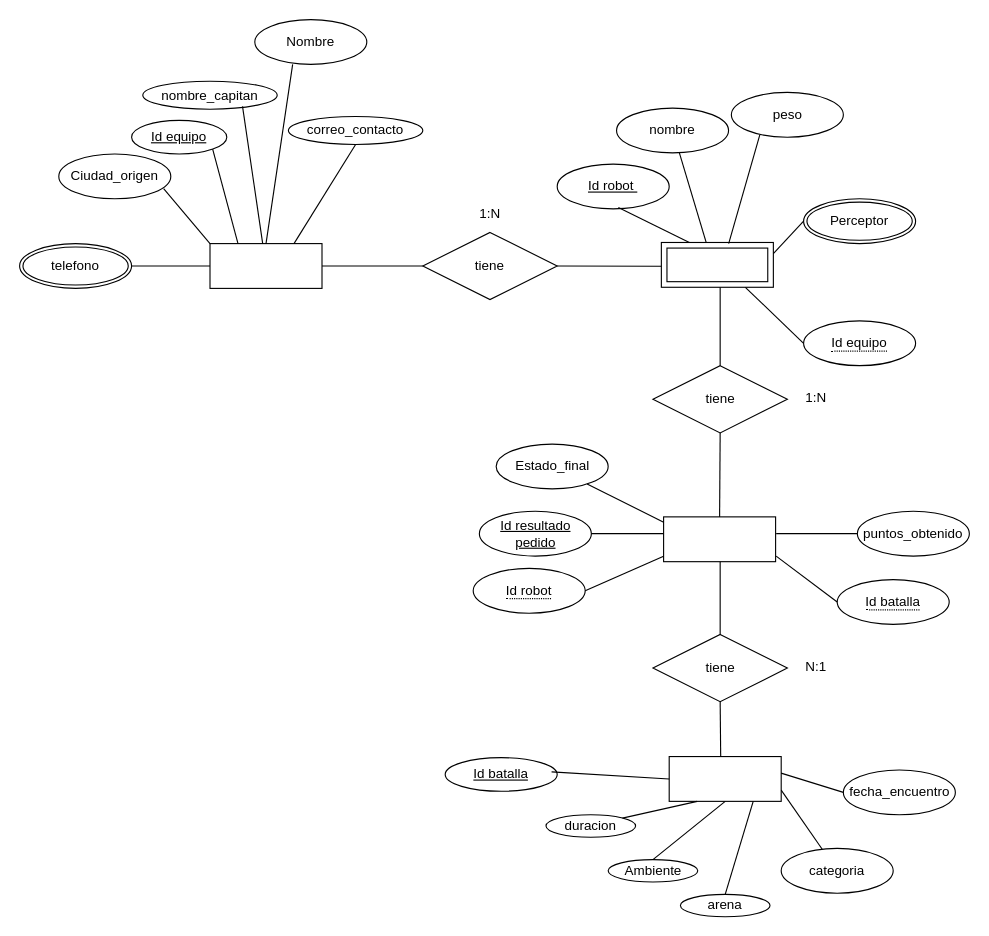
This 989x936 diagram has some shape labels left out. Here are the shapes that lost their labels. From the top down, the centre of each, then its label:
the point at 265,265: Equipo
the point at 716,264: Robot
the point at 719,539: Resultado_batalla
the point at 724,778: Batalla
